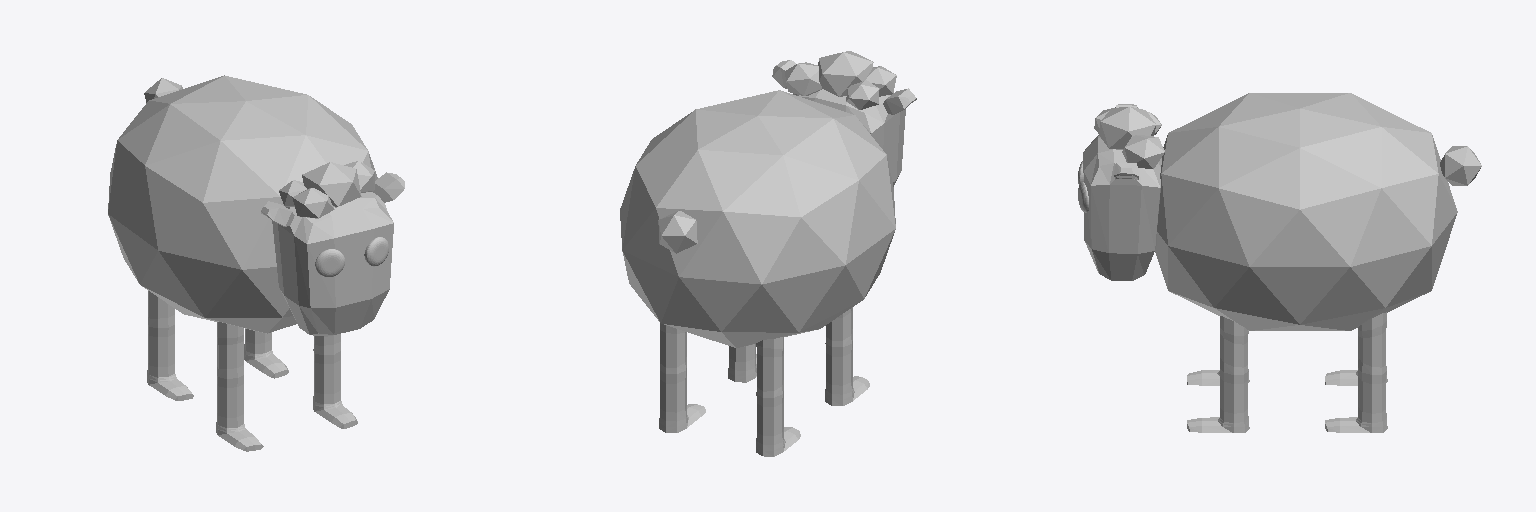
The model's file is sheep.obj.
The picture shows the model from 3 angles: view 1: azimuth 30°, elevation 25°; view 2: azimuth 150°, elevation 25°; view 3: azimuth 270°, elevation 25°; orthographic projection.
Bounding box in the file's own units: 0.7929 × 1 × 1.23.